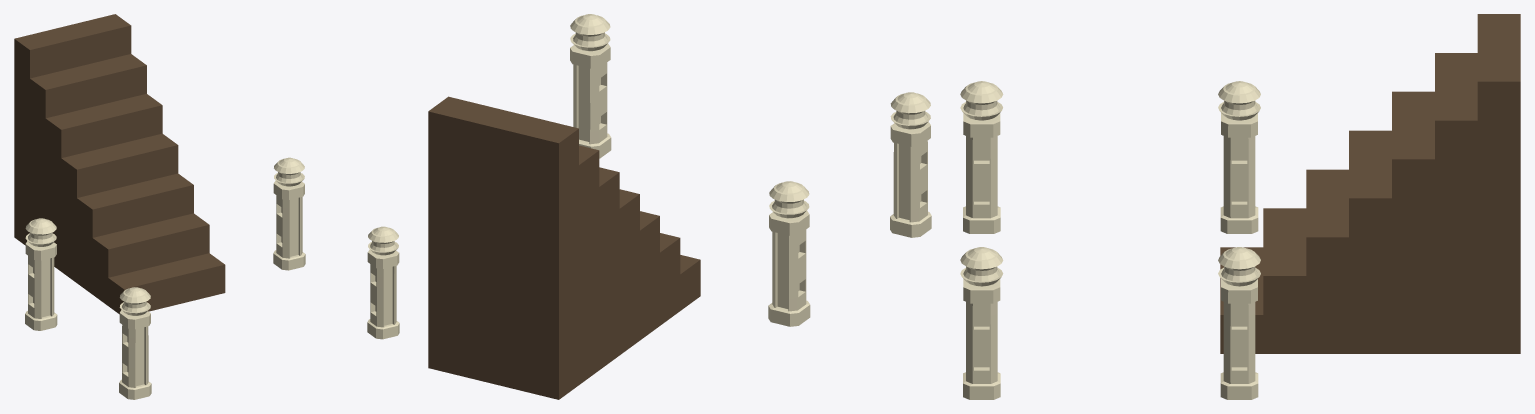
The model's file is foyer.fbx.
3 views of the same model, side by side, from view 1: azimuth 30°, elevation 25°; view 2: azimuth 150°, elevation 25°; view 3: azimuth 270°, elevation 25° (orthographic). The views are drawn at different scales.
Parts seen in each view (by area): view 1: Cube.004, Cube.002, Cube.001, Cube, Cube.003; view 2: Cube.004, Cube.001, Cube, Cube.002; view 3: Cube.004, Cube.003, Cube.001, Cube, Cube.002.
Part boxes in pixels (<box>): Cube.004: <box>14,14,225,314</box>; Cube.002: <box>367,226,399,339</box>; Cube.001: <box>25,218,57,330</box>; Cube: <box>119,287,151,399</box>; Cube.003: <box>273,157,305,270</box>; Cube.004: <box>428,96,700,399</box>; Cube.001: <box>768,181,810,326</box>; Cube: <box>890,92,931,237</box>; Cube.002: <box>570,14,611,158</box>; Cube.004: <box>1220,14,1520,353</box>; Cube.003: <box>1218,247,1260,399</box>; Cube.001: <box>1218,81,1260,233</box>; Cube: <box>960,81,1003,233</box>; Cube.002: <box>960,247,1003,399</box>.
Size of the model in its own units: 435 by 300 by 560.
